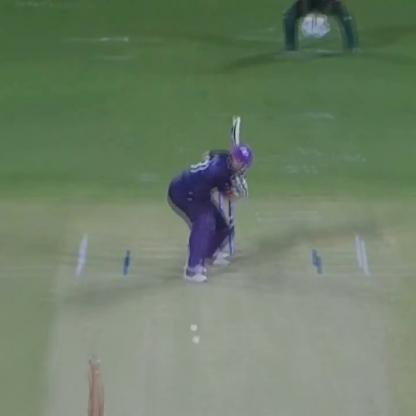ball: (187, 332, 208, 348), (183, 320, 201, 333)
bat: (222, 109, 248, 144)
pitch: (43, 235, 376, 416)
